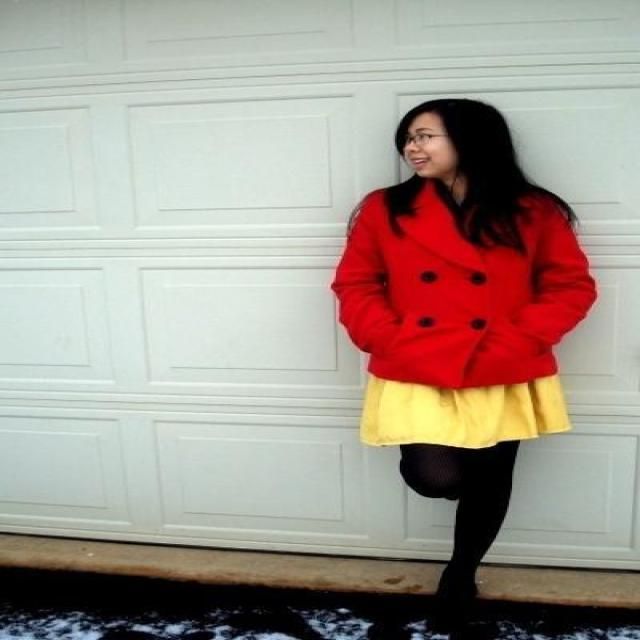jacket: (331, 192, 597, 390)
shoe: (448, 584, 498, 614)
skirt: (360, 375, 568, 447)
